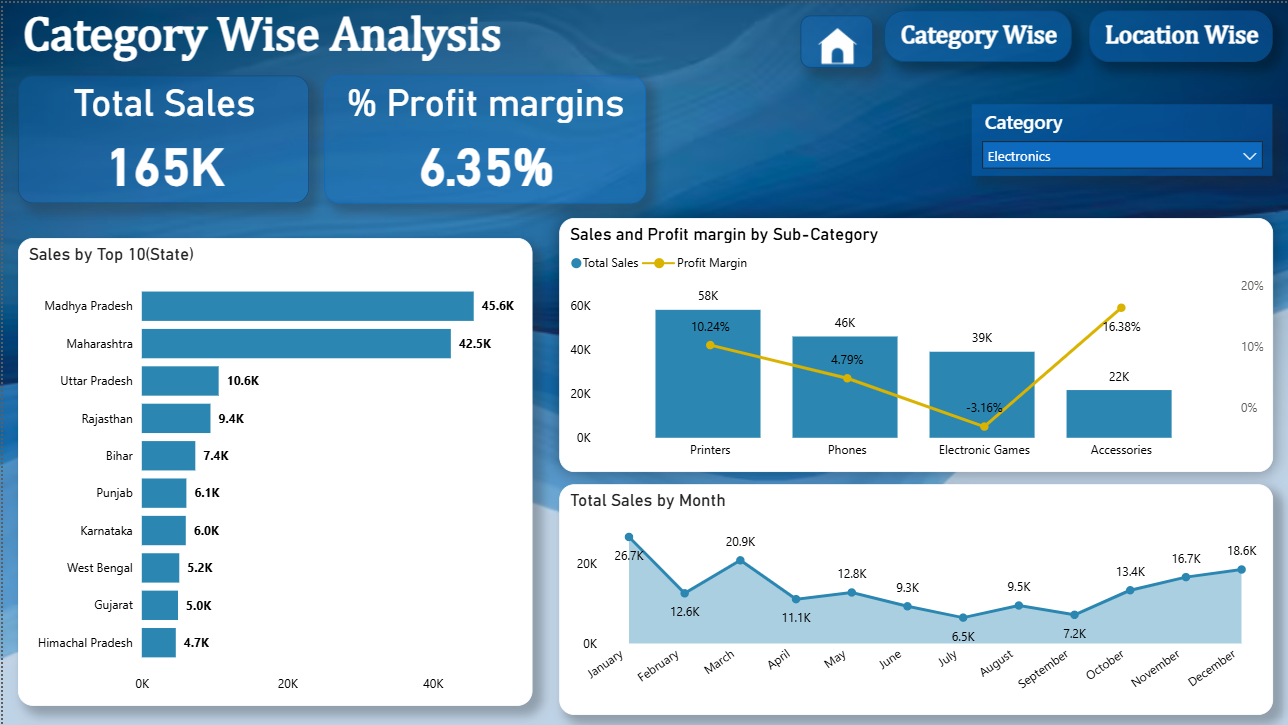

Layout of this report page (visuals, bound fields, positions):
{"tool":"powerbi","page":{"name":"Category wise","canvas":[1280,720],"ordinal":1},"visuals":[{"type":"textbox","box":[14.9,0,512.5,69.7],"z":0},{"type":"card","title":"Total Sales","fields":{"Values":["Order Details.Total Sales"]},"box":[14.9,72.1,289.8,126.9],"z":1000},{"type":"card","title":"% Profit margins","fields":{"Values":["Order Details.profit margin"]},"box":[319.7,72.1,319.7,126.9],"z":2000},{"type":"lineClusteredColumnComboChart","title":"Sales and Profit margin by Sub-Category","fields":{"Category":["Order Details.Sub-Category"],"Y":["Order Details.Total Sales"],"Y2":["Order Details.profit margin"]},"box":[553.6,214,710.3,252.5],"z":3000},{"type":"lineChart","fields":{"Category":["List of Orders.Order Date.Variation.Date Hierarchy.Month"],"Y":["Order Details.Total Sales"]},"box":[553.5,479.3,710,229.4],"z":4000},{"type":"slicer","fields":{"Values":["Order Details.Category"]},"box":[964.1,100.3,299.4,71.4],"z":5000},{"type":"actionButton","box":[793.6,12.4,72.1,52.2],"z":6000},{"type":"actionButton","title":"Over All","box":[877.6,6.9,186.8,50.8],"z":7000},{"type":"actionButton","title":"Over All","box":[1080.9,6.9,182.7,50.8],"z":8000},{"type":"clusteredBarChart","title":"Sales by Top 10(State)","fields":{"Category":["List of Orders (2).State"],"Y":["Order Details.Total Sales"]},"box":[15.1,233.5,512.3,465.6],"z":9000}]}

Visuals, with their boxes in screenshot pixels (x1, y1, x2, y2), scaled from the page's 1280x720 canvas onto the 1288x725 screenshot:
textbox: bbox(15, 0, 531, 70)
"Total Sales" card: bbox(15, 73, 307, 200)
"% Profit margins" card: bbox(322, 73, 643, 200)
"Sales and Profit margin by Sub-Category" lineClusteredColumnComboChart: bbox(557, 215, 1272, 470)
lineChart - List of Orders.Order Date.Variation.Date Hierarchy.Month x Order Details.Total Sales: bbox(557, 483, 1271, 714)
slicer - Order Details.Category: bbox(970, 101, 1271, 173)
actionButton: bbox(799, 12, 871, 65)
"Over All" actionButton: bbox(883, 7, 1071, 58)
"Over All" actionButton: bbox(1088, 7, 1271, 58)
"Sales by Top 10(State)" clusteredBarChart: bbox(15, 235, 531, 704)
